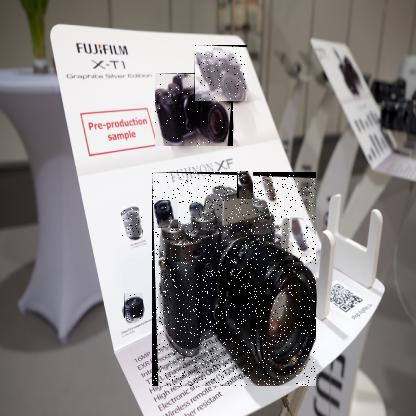Camera: (153, 173, 318, 388), (156, 74, 235, 148), (195, 46, 249, 103), (155, 201, 180, 230), (123, 207, 144, 239), (125, 295, 145, 323), (238, 173, 255, 203), (291, 218, 306, 244), (263, 177, 275, 195)
